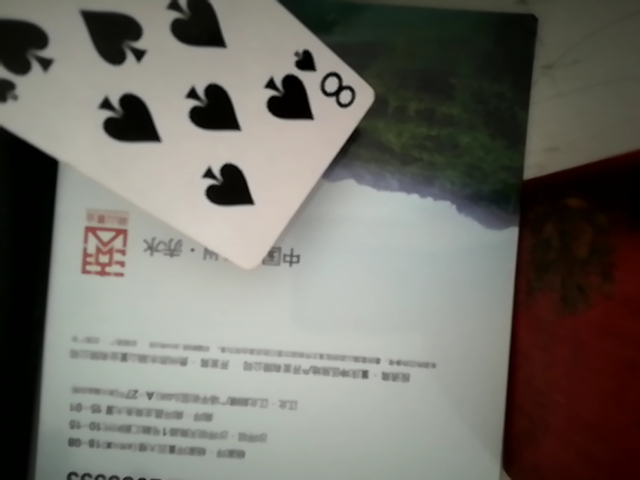ht 8: (0, 0, 383, 273)
